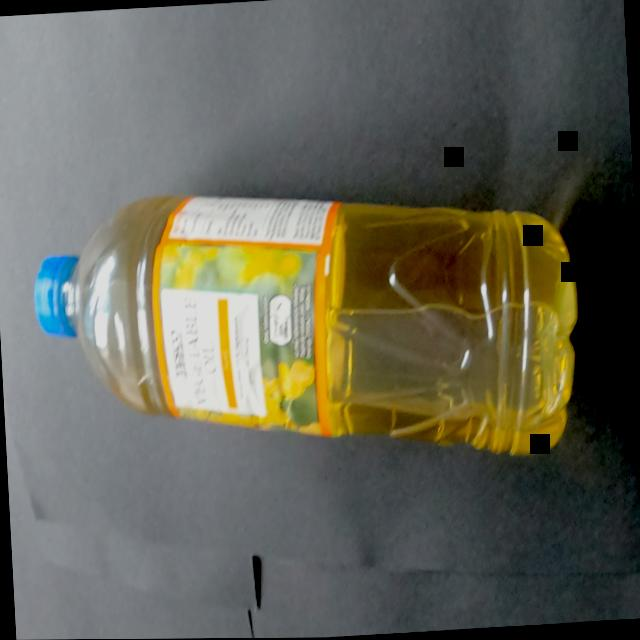Vegetableoil: (12, 139, 605, 519)
